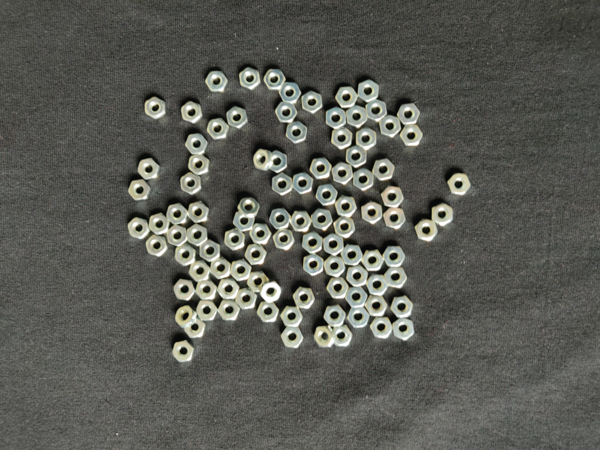nut: (447, 173, 472, 196), (400, 124, 424, 147), (415, 219, 439, 242), (391, 295, 414, 319), (335, 194, 358, 218), (180, 172, 203, 196), (373, 158, 396, 181), (382, 185, 405, 208), (310, 157, 333, 180), (293, 287, 316, 310), (235, 288, 258, 311), (384, 267, 408, 289), (346, 105, 368, 129), (332, 162, 354, 186), (174, 278, 196, 302), (398, 103, 421, 125), (393, 318, 415, 341), (383, 246, 406, 268), (366, 100, 388, 123), (358, 80, 380, 103), (367, 274, 389, 297), (365, 295, 388, 317), (370, 317, 393, 339), (334, 216, 356, 239), (345, 287, 368, 309), (324, 255, 346, 278), (327, 277, 350, 299), (324, 305, 346, 328), (292, 172, 314, 195), (286, 121, 308, 144), (279, 82, 302, 104), (239, 68, 261, 91), (281, 306, 304, 328), (260, 280, 282, 303), (257, 302, 280, 324), (247, 271, 270, 293), (230, 259, 252, 282), (207, 118, 230, 140), (206, 71, 229, 93), (138, 158, 161, 180), (187, 201, 209, 224), (218, 300, 241, 322), (217, 278, 240, 300), (146, 235, 168, 258), (127, 218, 150, 240), (362, 201, 383, 225), (303, 253, 324, 277), (302, 91, 323, 115), (227, 106, 248, 130), (380, 116, 402, 138), (347, 265, 369, 287), (316, 184, 338, 206), (302, 232, 324, 254), (264, 69, 286, 91), (290, 211, 312, 233), (270, 208, 292, 230), (273, 229, 295, 251), (250, 223, 272, 245), (181, 102, 203, 124), (189, 154, 211, 176), (196, 300, 218, 322), (184, 317, 206, 339), (433, 204, 454, 227), (362, 250, 385, 271), (353, 168, 374, 191), (346, 145, 367, 168), (335, 87, 358, 108), (332, 127, 353, 150), (326, 107, 347, 130), (347, 308, 370, 329), (312, 208, 333, 231), (272, 173, 293, 196), (275, 102, 298, 123), (245, 244, 268, 265), (225, 228, 246, 251), (145, 97, 166, 120), (185, 134, 208, 155), (128, 180, 151, 201), (187, 224, 208, 247), (176, 306, 197, 329), (195, 280, 218, 301), (175, 244, 196, 267), (167, 224, 188, 247), (149, 213, 170, 236), (384, 208, 406, 229), (341, 245, 363, 266), (314, 326, 335, 348), (282, 328, 304, 349), (173, 341, 194, 363), (189, 261, 210, 283), (357, 128, 377, 151), (324, 233, 344, 256), (238, 198, 261, 218), (211, 257, 231, 280), (167, 204, 188, 225), (254, 149, 274, 171), (233, 212, 255, 232), (200, 240, 220, 262), (334, 325, 353, 347), (271, 150, 287, 173)
